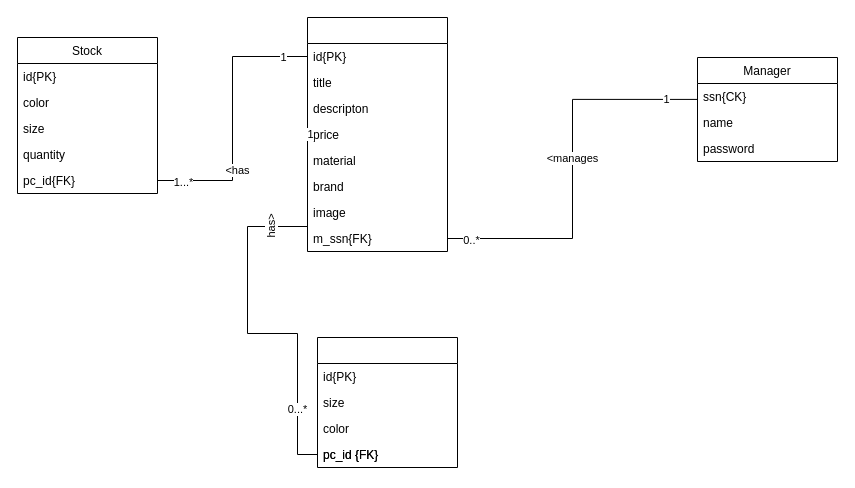
The diagram is 855 pixels wide and 488 high, and some of its shapes have lost their labels. The shapes that lost their labels are listed below. From the top down, each one's box as (x1, y1, x2, y2) in pixels, then its label:
(306, 16, 448, 252): Product_card
(316, 336, 458, 468): Socks
